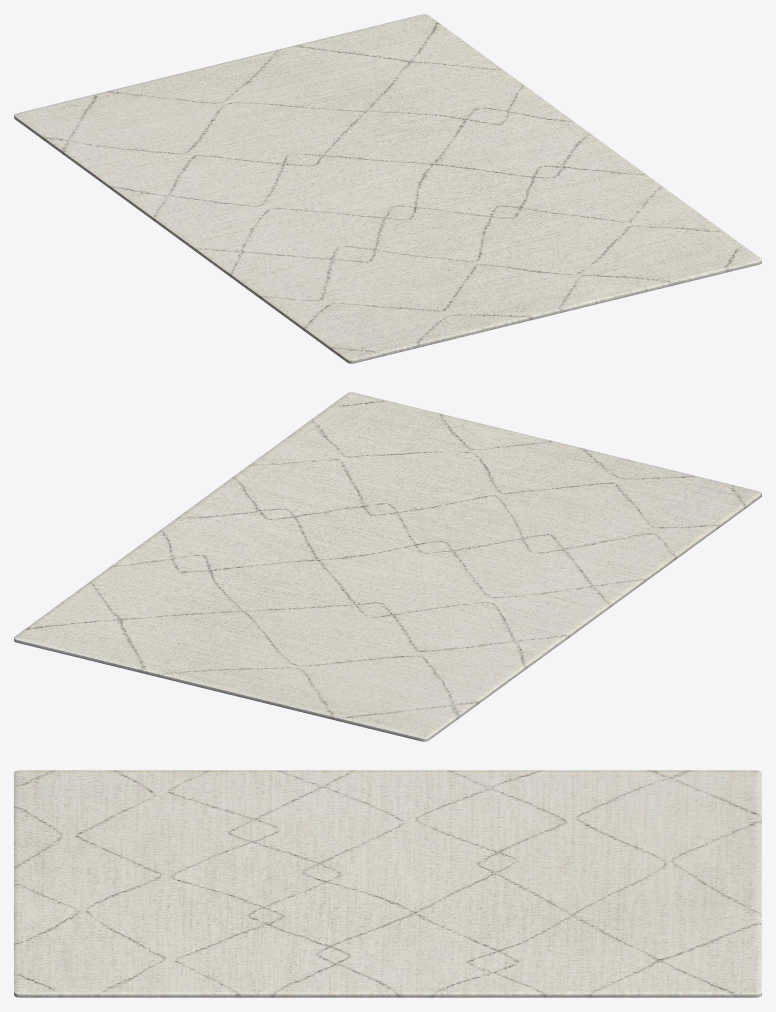
The model's file is tversted_dywan_z_krotkim_wosiem_20560806.glb.
The picture shows the model from 3 angles, top to bottom: view 1: azimuth 30°, elevation 25°; view 2: azimuth 150°, elevation 25°; view 3: azimuth 270°, elevation 25°; orthographic projection. The views are drawn at different scales.
Parts seen in each view (by area): view 1: tversted_dywan_z_krotkim_wosiem_20560806; view 2: tversted_dywan_z_krotkim_wosiem_20560806; view 3: tversted_dywan_z_krotkim_wosiem_20560806.
Part boxes in pixels (x1,y1,x2,y2): tversted_dywan_z_krotkim_wosiem_20560806: (14,14,761,363); tversted_dywan_z_krotkim_wosiem_20560806: (14,392,761,741); tversted_dywan_z_krotkim_wosiem_20560806: (14,770,761,997).
Size of the model in its own units: 1.7 by 0.0141 by 2.4.
1 material, 1 textured.
